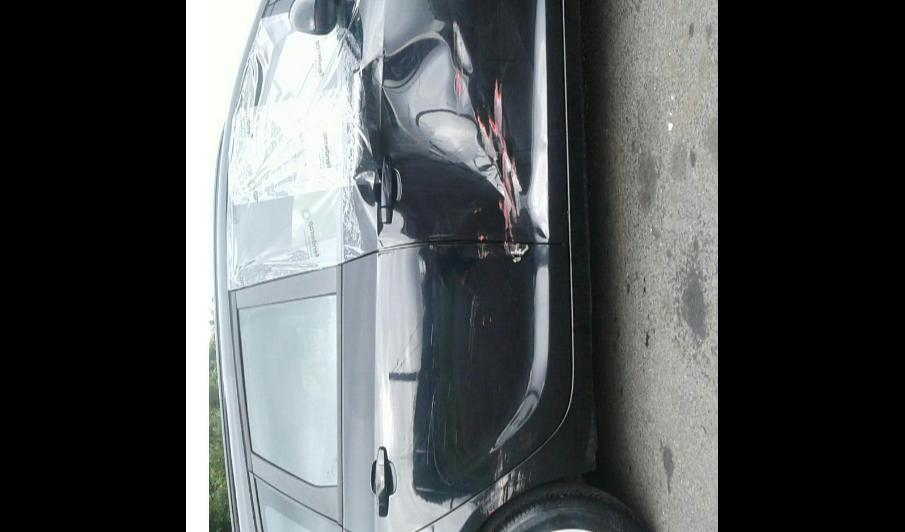Dent: (348, 0, 558, 248)
Paint chip: (473, 76, 526, 244), (473, 448, 530, 516), (504, 238, 530, 262), (452, 68, 467, 102), (476, 244, 492, 260), (478, 228, 489, 244), (473, 204, 482, 214)
Scratch: (416, 392, 436, 464), (432, 414, 452, 486), (452, 20, 473, 72), (467, 292, 479, 356), (416, 484, 452, 494), (416, 256, 428, 276), (428, 232, 456, 238), (444, 418, 448, 454), (430, 320, 434, 346), (432, 342, 436, 368), (454, 428, 458, 448), (448, 380, 452, 396), (482, 314, 486, 326), (428, 242, 436, 248), (430, 238, 450, 240), (490, 314, 492, 322)
